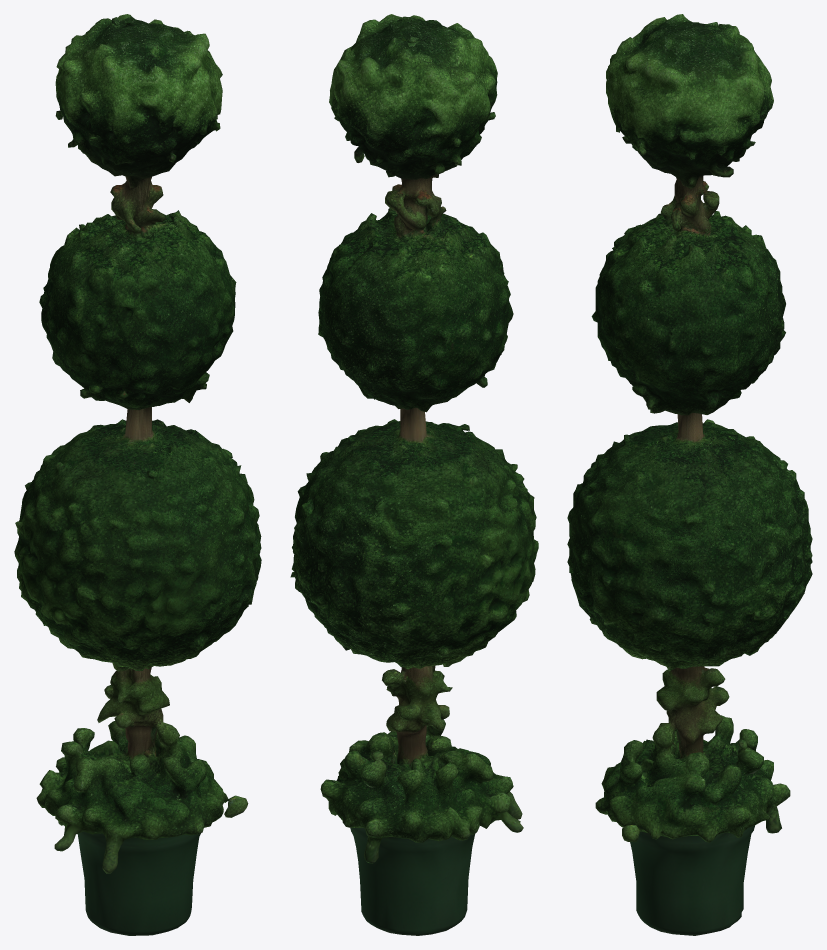
File: TOPIARY_TREE_65InchesTall_0222184849_texture.glb
The picture shows the model from 3 angles, left to right: view 1: azimuth 30°, elevation 25°; view 2: azimuth 150°, elevation 25°; view 3: azimuth 270°, elevation 25°; orthographic projection.
Visible parts, largest first — view 1: Mesh_0; view 2: Mesh_0; view 3: Mesh_0.
Boxes of the visible parts, box(x1,y1,x2,y2) form: Mesh_0: box(14, 14, 261, 935); Mesh_0: box(290, 14, 538, 935); Mesh_0: box(567, 14, 812, 935).
Size of the model in its own units: 0.4128 by 1.65 by 0.4128.
1 material, 1 textured.
